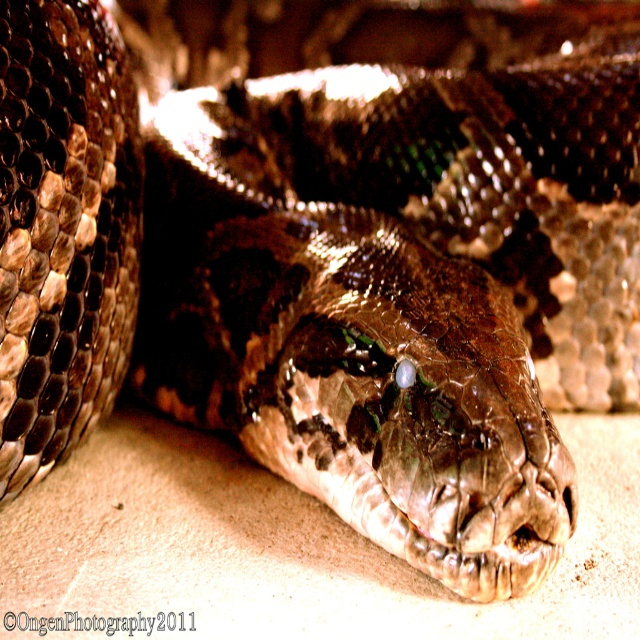Snake: (0, 0, 640, 604)
